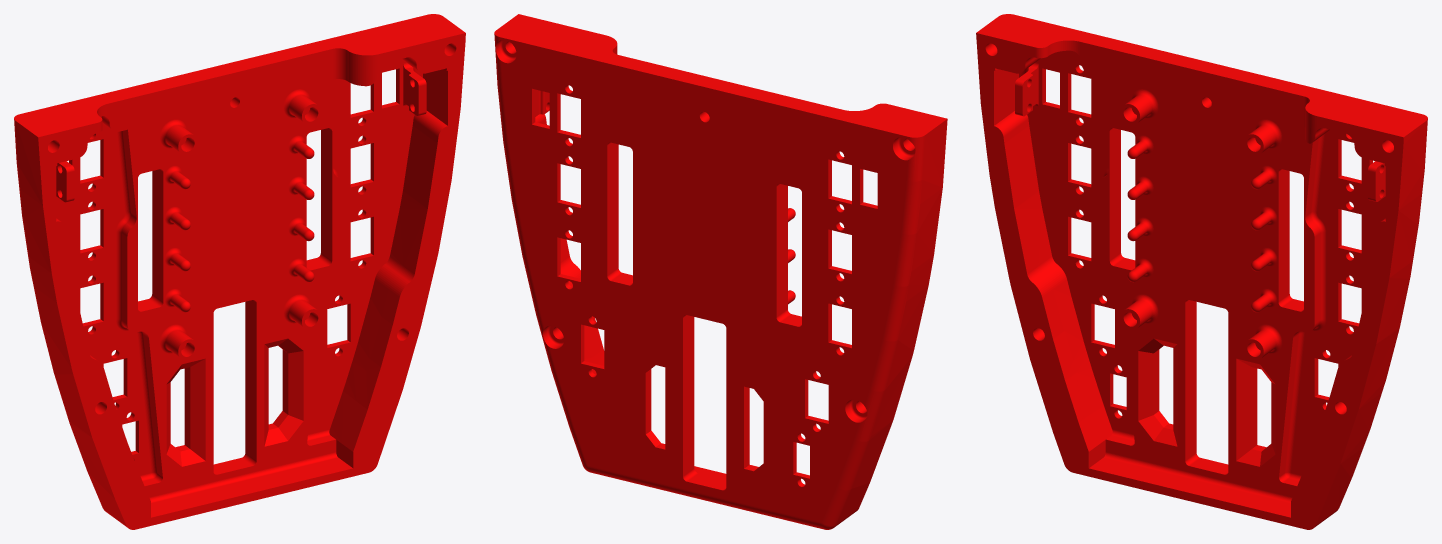
File: torso_1_bottom_back_1.glb
3 views of the same model, side by side, from view 1: azimuth 30°, elevation 25°; view 2: azimuth 150°, elevation 25°; view 3: azimuth 330°, elevation 25° (orthographic).
Parts seen in each view (by area): view 1: torso_1_bottom_back_1.obj; view 2: torso_1_bottom_back_1.obj; view 3: torso_1_bottom_back_1.obj.
Boxes of the visible parts, left/top/right/bottom form: torso_1_bottom_back_1.obj: left=14, top=14, right=465, bottom=529; torso_1_bottom_back_1.obj: left=494, top=14, right=947, bottom=529; torso_1_bottom_back_1.obj: left=976, top=14, right=1427, bottom=529.
Size of the model in its own units: 0.2183 by 0.2029 by 0.025.
